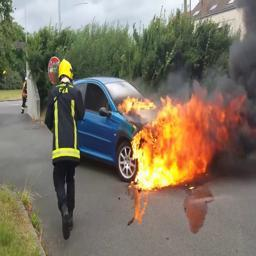fire: (133, 95, 245, 189), (118, 95, 155, 114)
